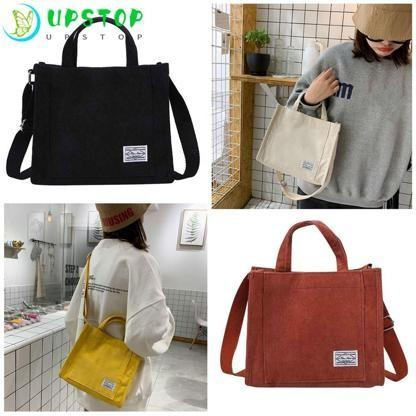not trash: (219, 216, 411, 396), (7, 20, 199, 187), (66, 248, 166, 406), (253, 83, 341, 193)
